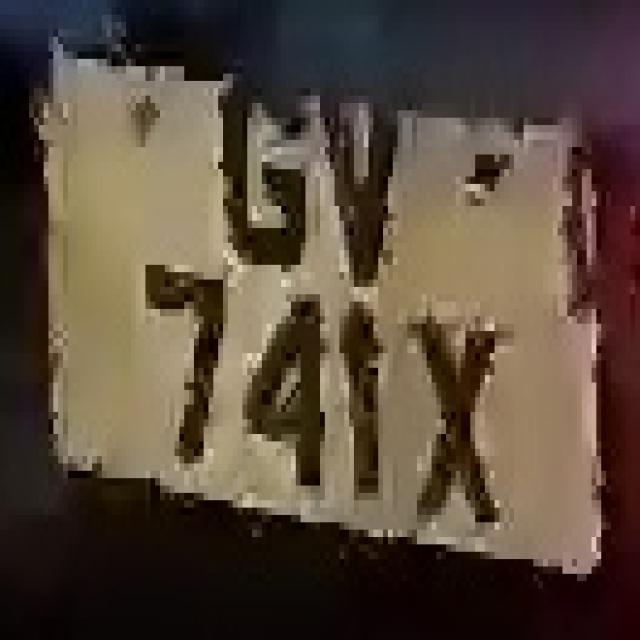1: (334, 235, 402, 530)
4: (228, 235, 334, 508)
7: (145, 221, 223, 448)
G: (204, 44, 300, 272)
V: (310, 66, 412, 302)
X: (417, 287, 499, 537)
